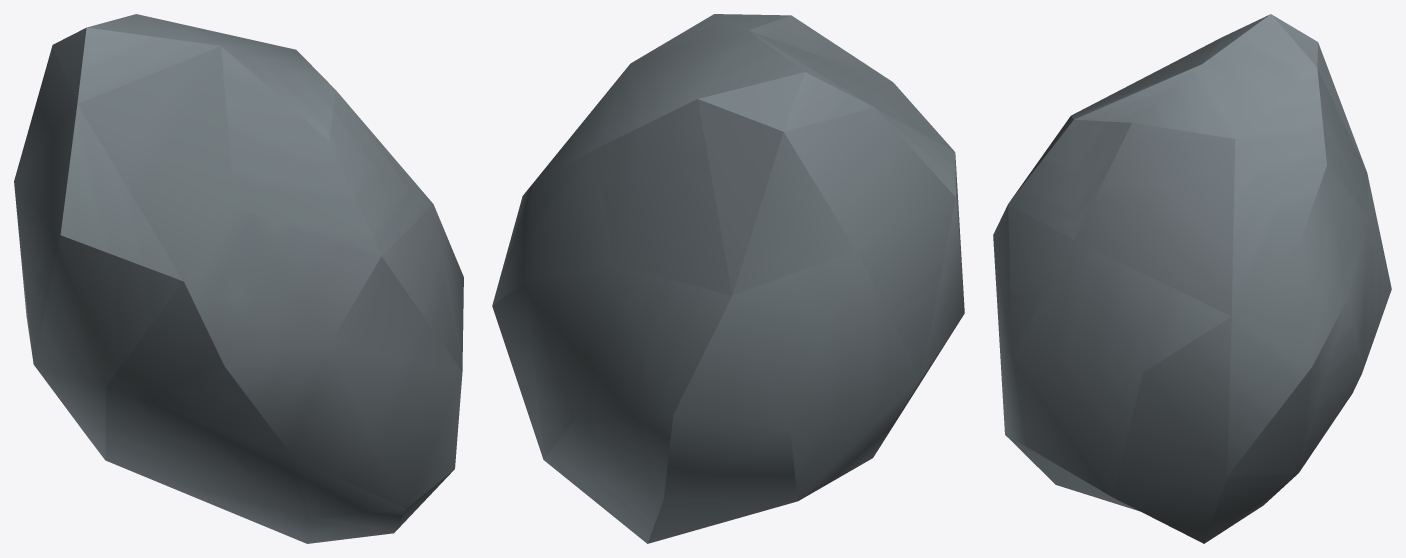
File: Rock_3_B_Color1.gltf
The picture shows the model from 3 angles, left to right: view 1: azimuth 30°, elevation 25°; view 2: azimuth 150°, elevation 25°; view 3: azimuth 270°, elevation 25°; orthographic projection. The views are drawn at different scales.
Visible parts, largest first — view 1: Rock_3_B_Color1; view 2: Rock_3_B_Color1; view 3: Rock_3_B_Color1.
Boxes of the visible parts, box(x1,y1,x2,y2) form: Rock_3_B_Color1: box(14, 14, 463, 543); Rock_3_B_Color1: box(492, 14, 964, 543); Rock_3_B_Color1: box(993, 14, 1391, 543).
Bounding box in the file's own units: 0.8192 × 1.03 × 0.8468.
Materials: 1 (1 with a texture image).
